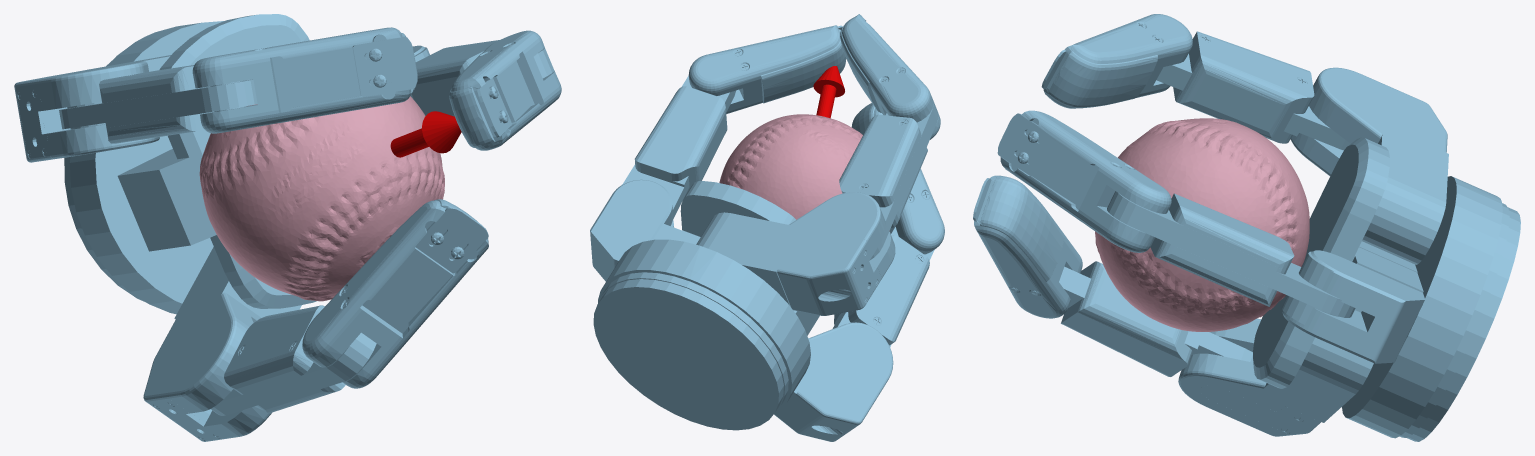
3 views of the same model, side by side, from view 1: azimuth 30°, elevation 25°; view 2: azimuth 150°, elevation 25°; view 3: azimuth 270°, elevation 25° (orthographic). The views are drawn at different scales.
Visible parts, largest first — view 1: world, baseball.stl; view 2: world, baseball.stl; view 3: world, baseball.stl.
Part boxes in pixels (<box>): world: <box>14,14,561,441</box>; baseball.stl: <box>199,96,444,301</box>; world: <box>590,14,944,441</box>; baseball.stl: <box>719,114,889,230</box>; world: <box>973,14,1520,441</box>; baseball.stl: <box>1095,118,1309,331</box>.
Bounding box in the file's own units: 0.133 × 0.1583 × 0.1847.
